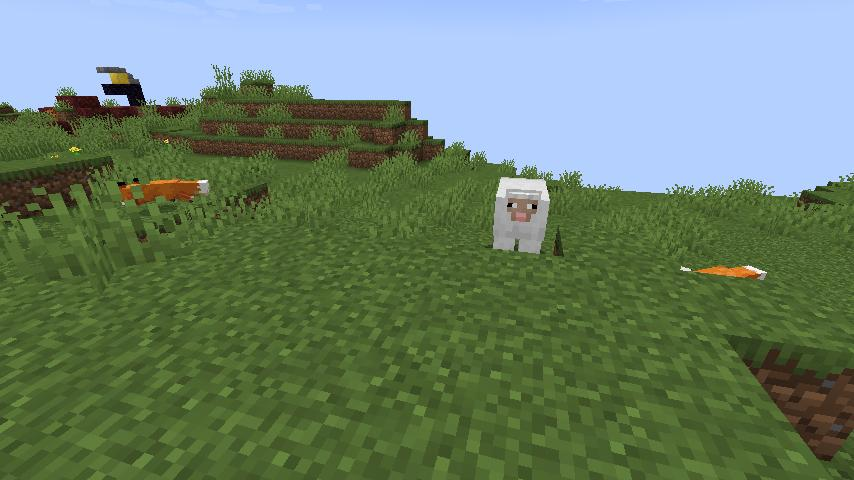fox: (105, 169, 217, 217), (674, 250, 775, 286)
sheep: (485, 169, 556, 260)
